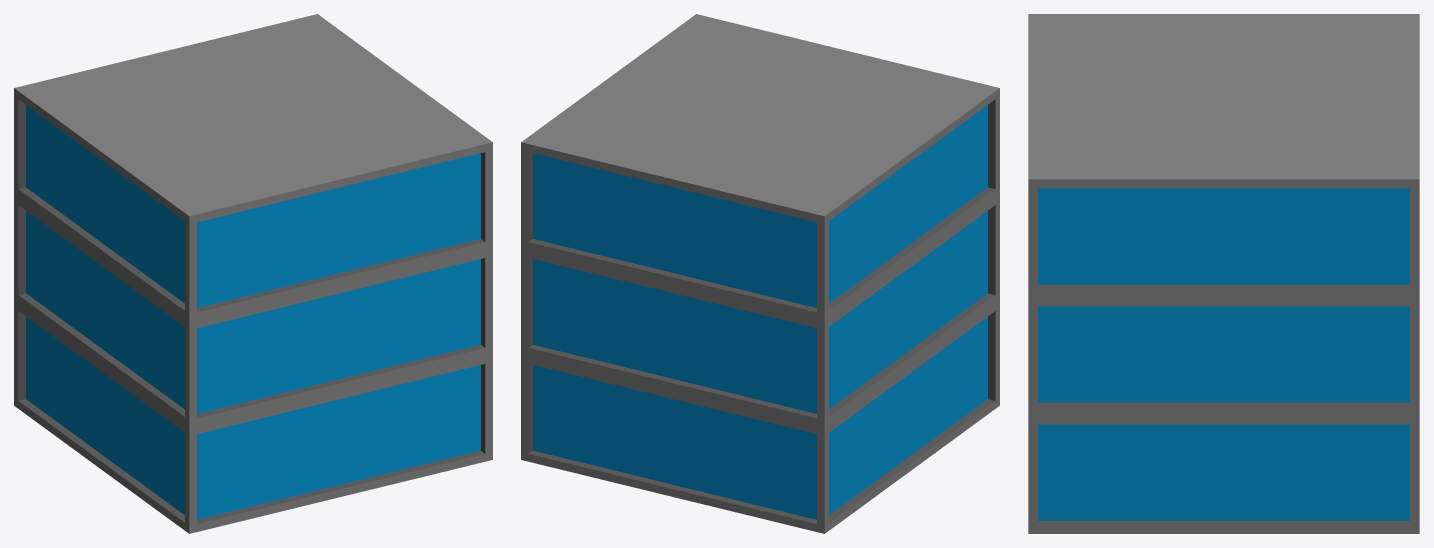
Rendered from Floor1.glb.
The picture shows the model from 3 angles, left to right: view 1: azimuth 30°, elevation 25°; view 2: azimuth 150°, elevation 25°; view 3: azimuth 270°, elevation 25°; orthographic projection. The views are drawn at different scales.
Parts seen in each view (by area): view 1: Cube; view 2: Cube; view 3: Cube.
Boxes of the visible parts, bbox=[...] form: Cube: bbox=[14, 14, 492, 533]; Cube: bbox=[521, 14, 999, 533]; Cube: bbox=[1028, 14, 1419, 533].
Bounding box in the file's own units: 16 × 16 × 16.
Materials: 2 (2 with a texture image).
